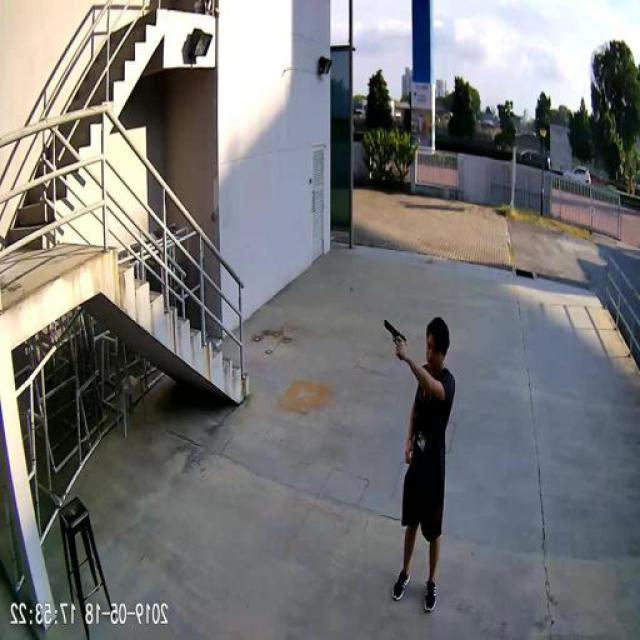weapon: (382, 318, 412, 364)
